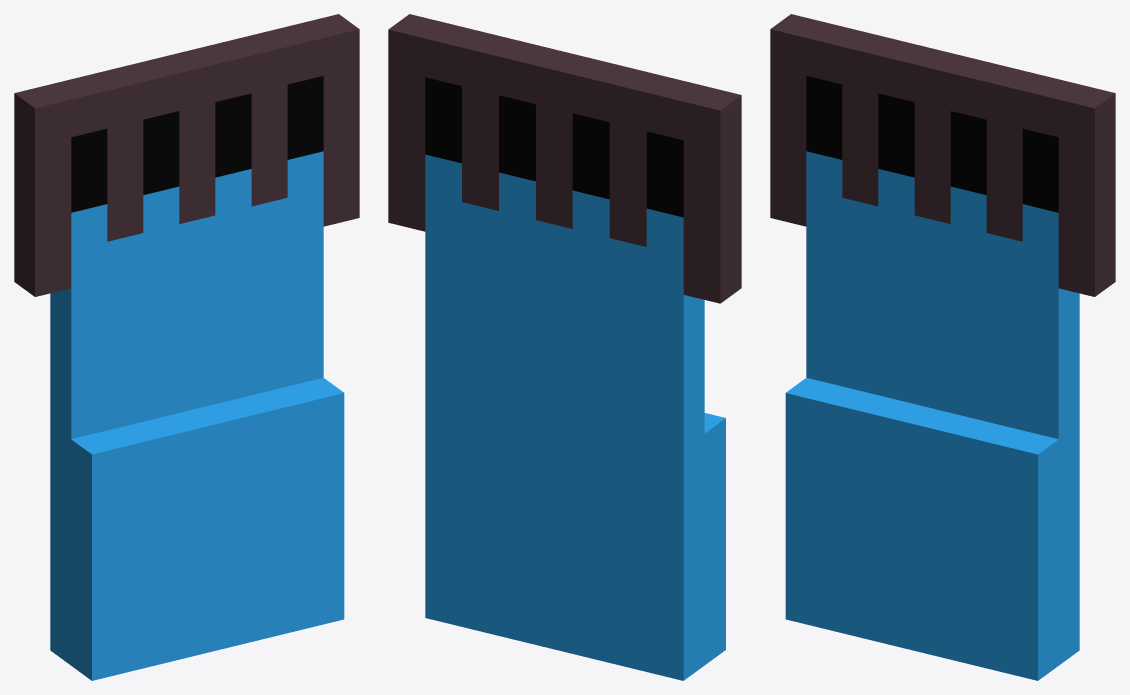
File: wall_grate_b_passing_water.obj
The picture shows the model from 3 angles, left to right: view 1: azimuth 30°, elevation 25°; view 2: azimuth 150°, elevation 25°; view 3: azimuth 330°, elevation 25°; orthographic projection. The views are drawn at different scales.
Bounding box in the file's own units: 0.9 × 1.5 × 0.2.
1 material, 1 textured.
